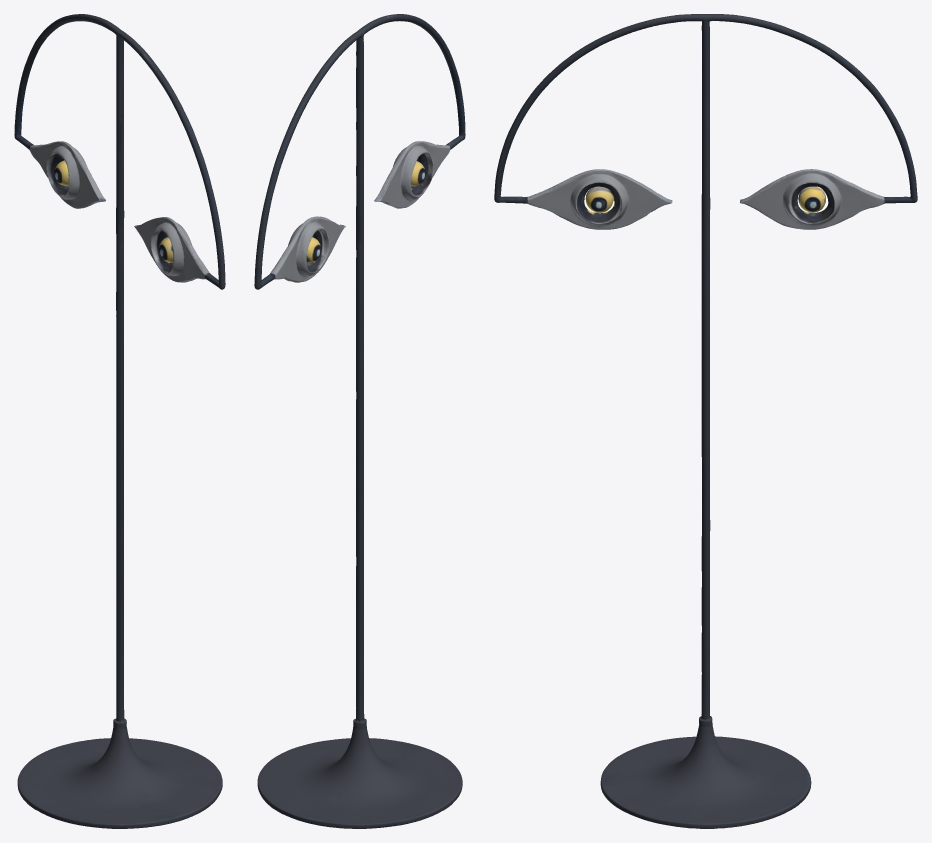
3 views of the same model, side by side, from view 1: azimuth 30°, elevation 25°; view 2: azimuth 150°, elevation 25°; view 3: azimuth 270°, elevation 25° (orthographic).
Parts seen in each view (by area): view 1: tripo_node_99a40a47-7f17-4e11-b03f-4009af3aefd1; view 2: tripo_node_99a40a47-7f17-4e11-b03f-4009af3aefd1; view 3: tripo_node_99a40a47-7f17-4e11-b03f-4009af3aefd1.
Boxes of the visible parts, left/top/right/bottom form: tripo_node_99a40a47-7f17-4e11-b03f-4009af3aefd1: left=14, top=14, right=225, bottom=828; tripo_node_99a40a47-7f17-4e11-b03f-4009af3aefd1: left=254, top=14, right=465, bottom=828; tripo_node_99a40a47-7f17-4e11-b03f-4009af3aefd1: left=494, top=14, right=917, bottom=828.
Size of the model in its own units: 0.2465 by 1 by 0.4982.
1 material, 1 textured.
